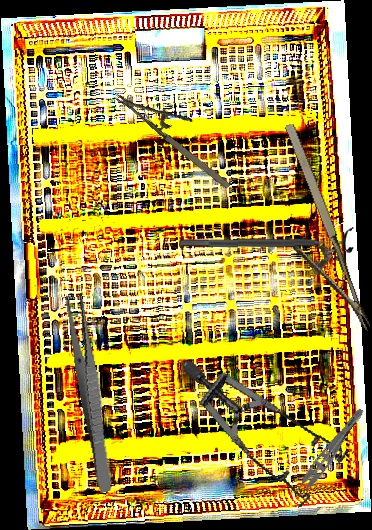Dressing Forceps: (62, 292, 120, 494)
Fixation Ring: (178, 226, 355, 257)
Needle Holder: (251, 120, 372, 347), (112, 70, 247, 193)
Speculum: (181, 321, 361, 529)
Tissue Forceps: (287, 401, 367, 504)
